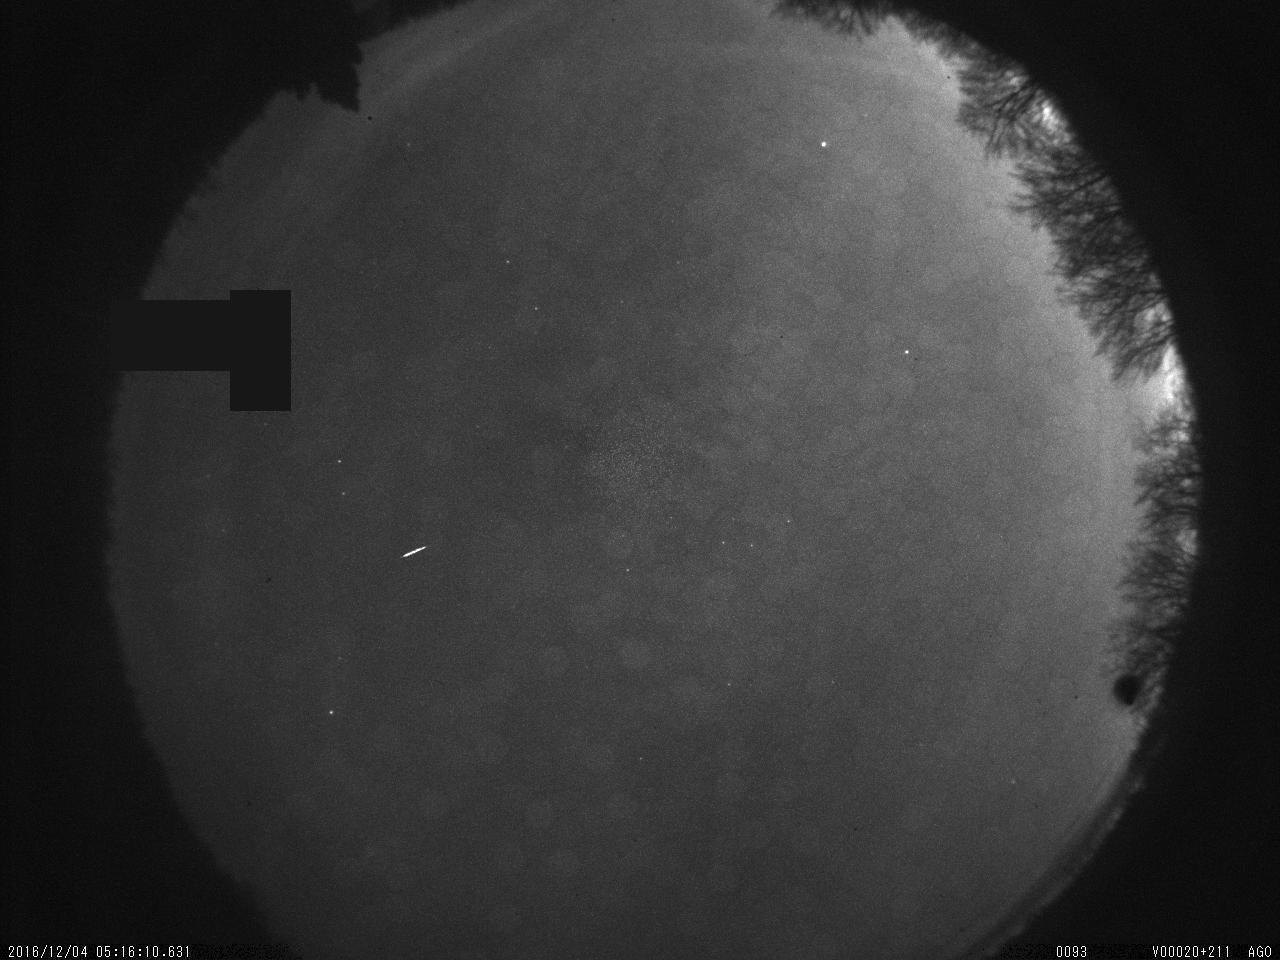Meteor: (400, 541, 431, 561)
